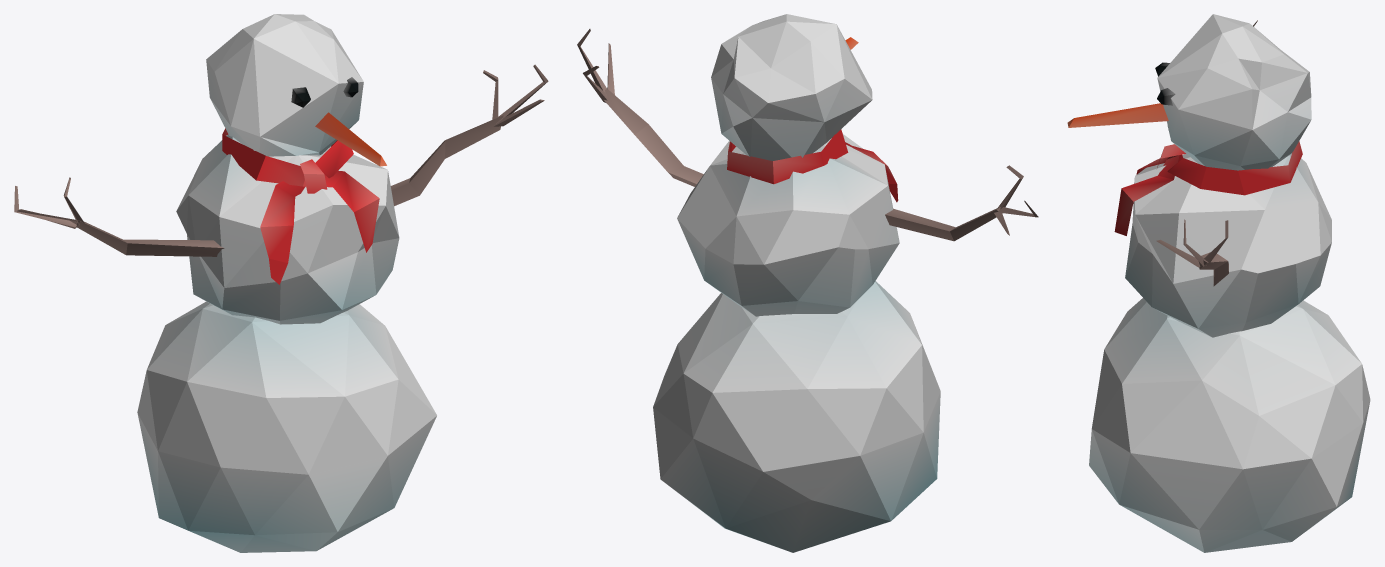
File: sm_snow_man.fbx
The picture shows the model from 3 angles, left to right: view 1: azimuth 30°, elevation 25°; view 2: azimuth 150°, elevation 25°; view 3: azimuth 270°, elevation 25°; orthographic projection. The views are drawn at different scales.
Parts seen in each view (by area): view 1: sm_snow_man; view 2: sm_snow_man; view 3: sm_snow_man.
Part boxes in pixels (x1,y1,x2,y2): sm_snow_man: (14,14,548,552); sm_snow_man: (577,14,1038,552); sm_snow_man: (1067,14,1370,552).
Size of the model in its own units: 275 by 280 by 149.
